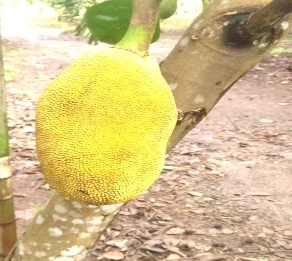Mit: (34, 49, 178, 209)
